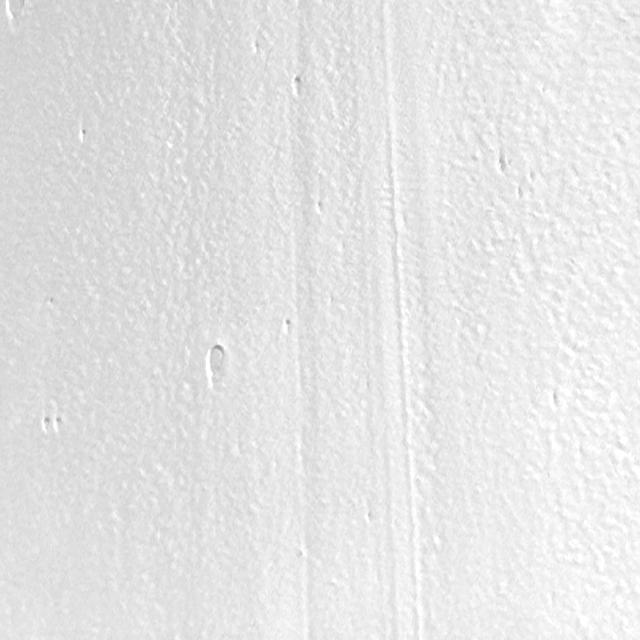pin holes: (200, 344, 230, 392), (1, 0, 30, 31), (41, 413, 64, 438), (288, 73, 307, 97), (361, 507, 376, 528), (50, 414, 65, 434), (76, 125, 90, 146), (281, 317, 294, 338), (547, 391, 560, 412), (496, 156, 508, 177), (40, 414, 53, 433), (526, 168, 538, 186), (314, 197, 326, 215), (43, 296, 57, 310)
